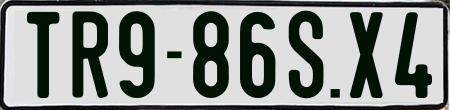4: (393, 10, 434, 96)
6: (238, 10, 276, 98)
8: (190, 8, 232, 98)
9: (118, 10, 157, 101)
R: (69, 8, 108, 100)
S: (288, 9, 325, 98)
T: (26, 11, 62, 100)
X: (350, 10, 387, 102)
